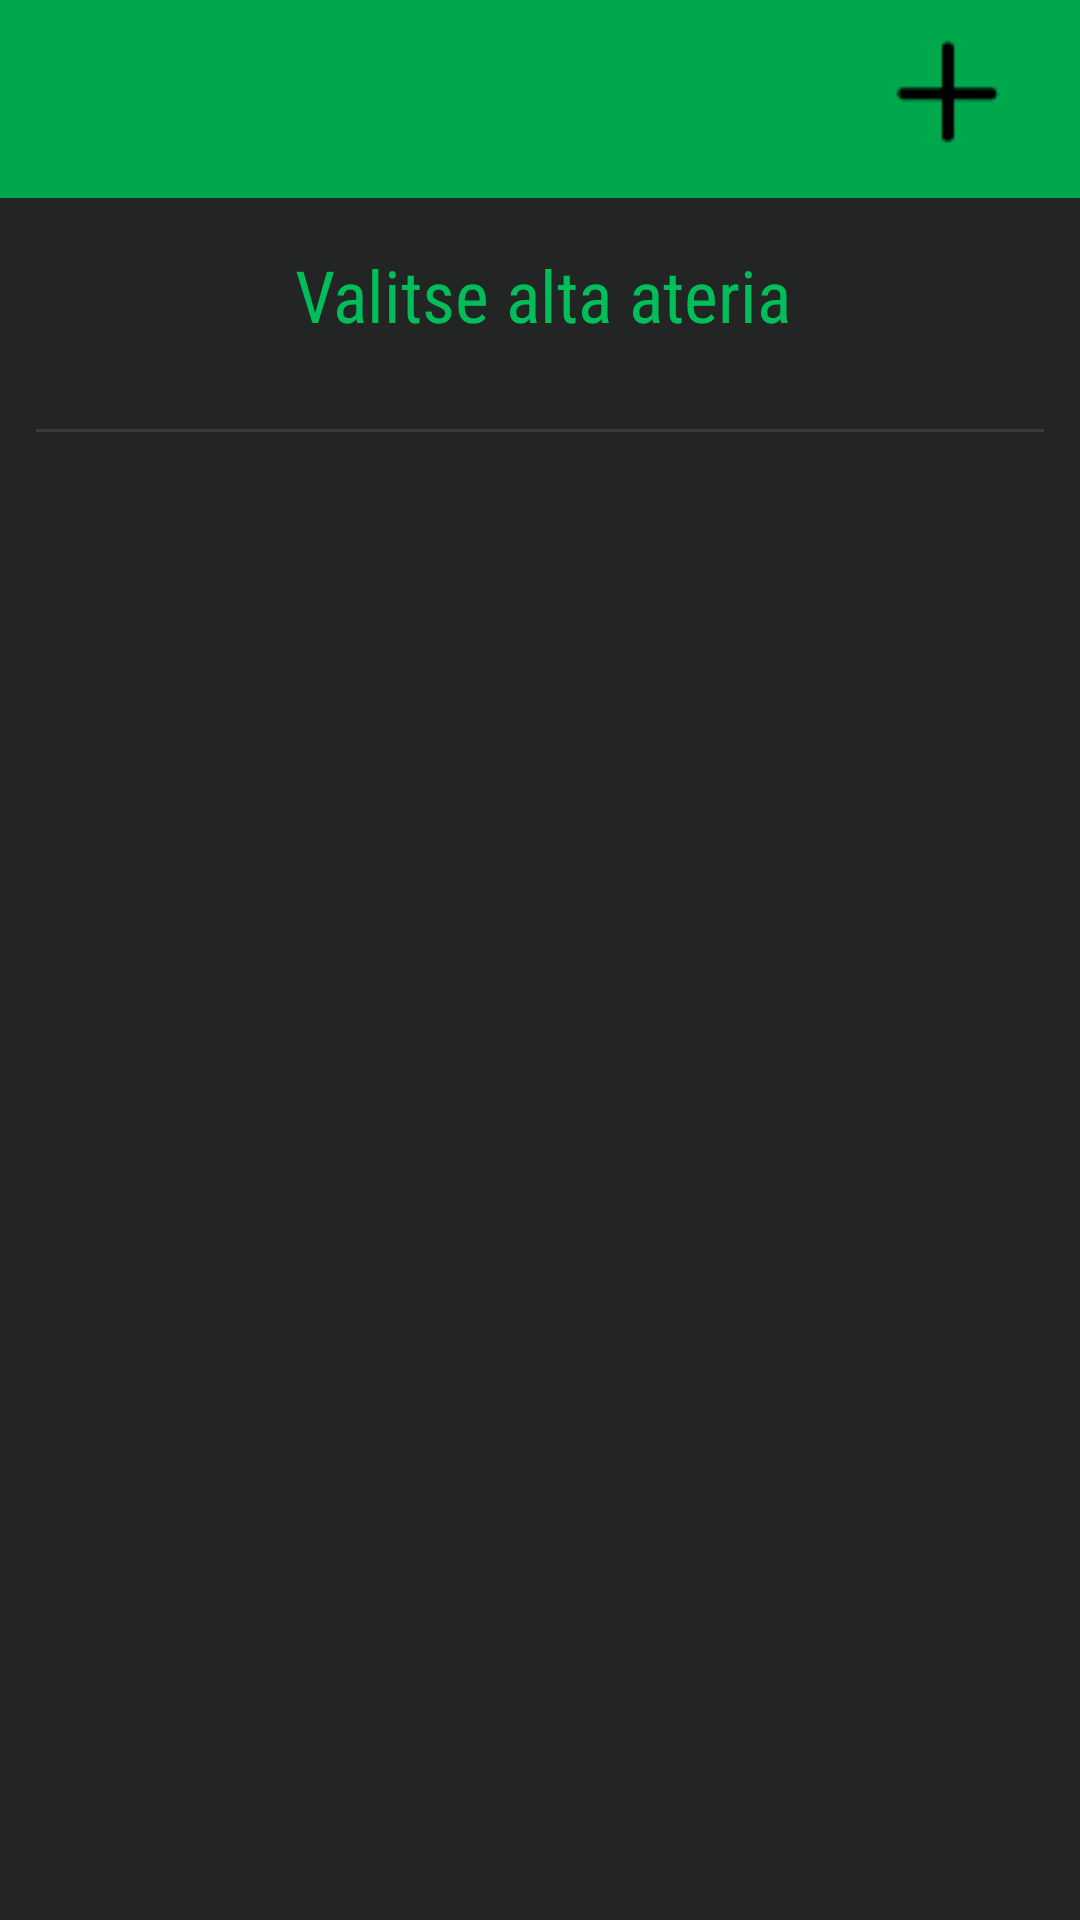

Icon click points for this 1080*1920 phone screenshot, format (x,y):
plusmini: (947,92)
